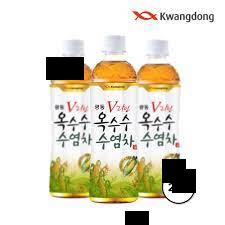oksususuyeomcha: (89, 33, 138, 204), (136, 37, 181, 202), (48, 36, 92, 200)
